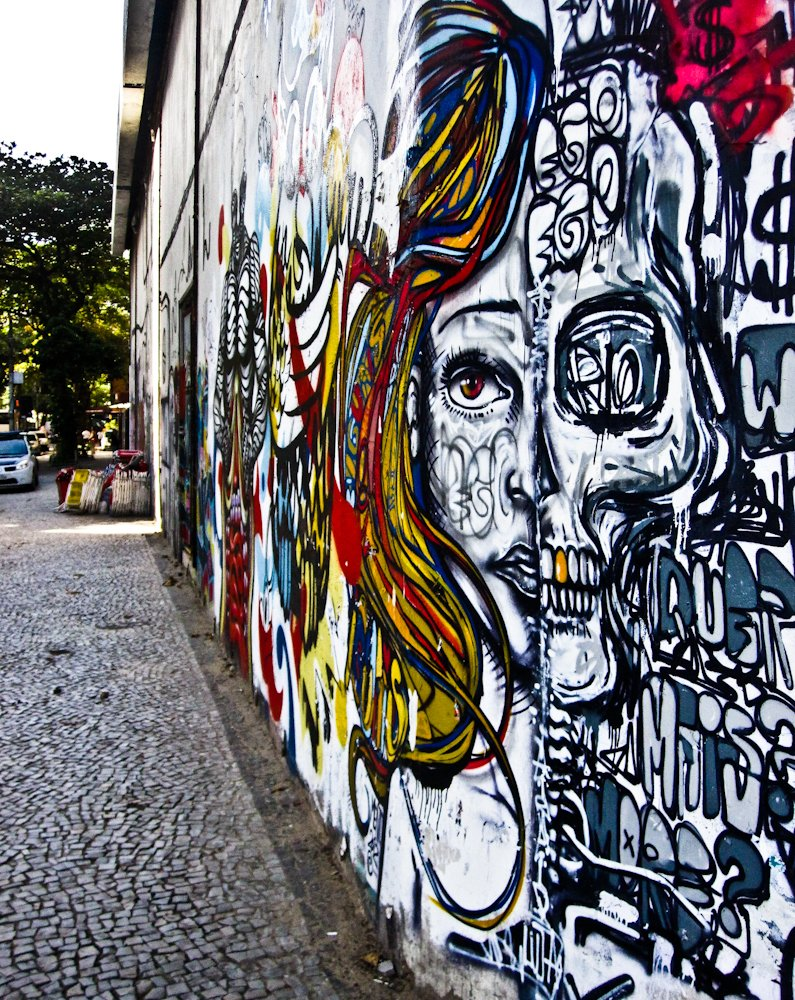graphite: (395, 4, 795, 1000), (251, 154, 466, 828), (189, 239, 309, 663)
